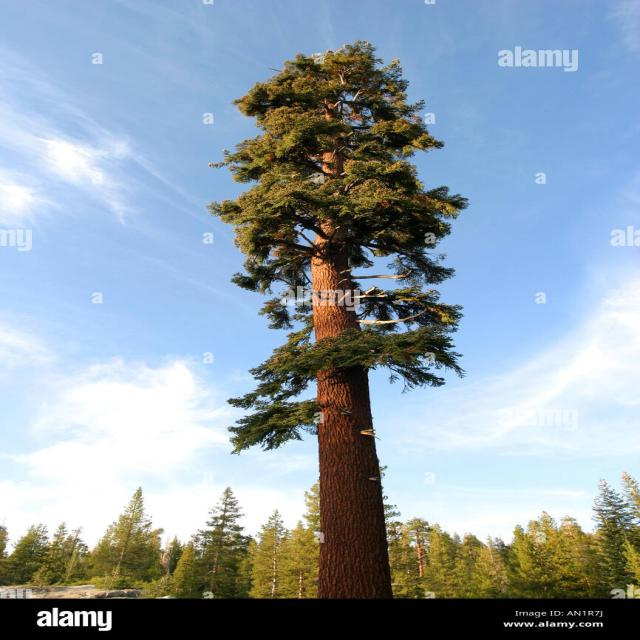Abies: (222, 36, 469, 600)
